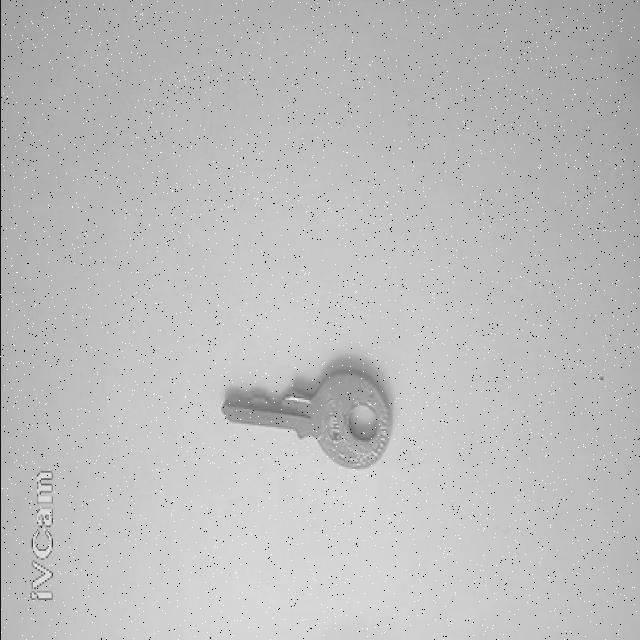key: (221, 373, 390, 469)
